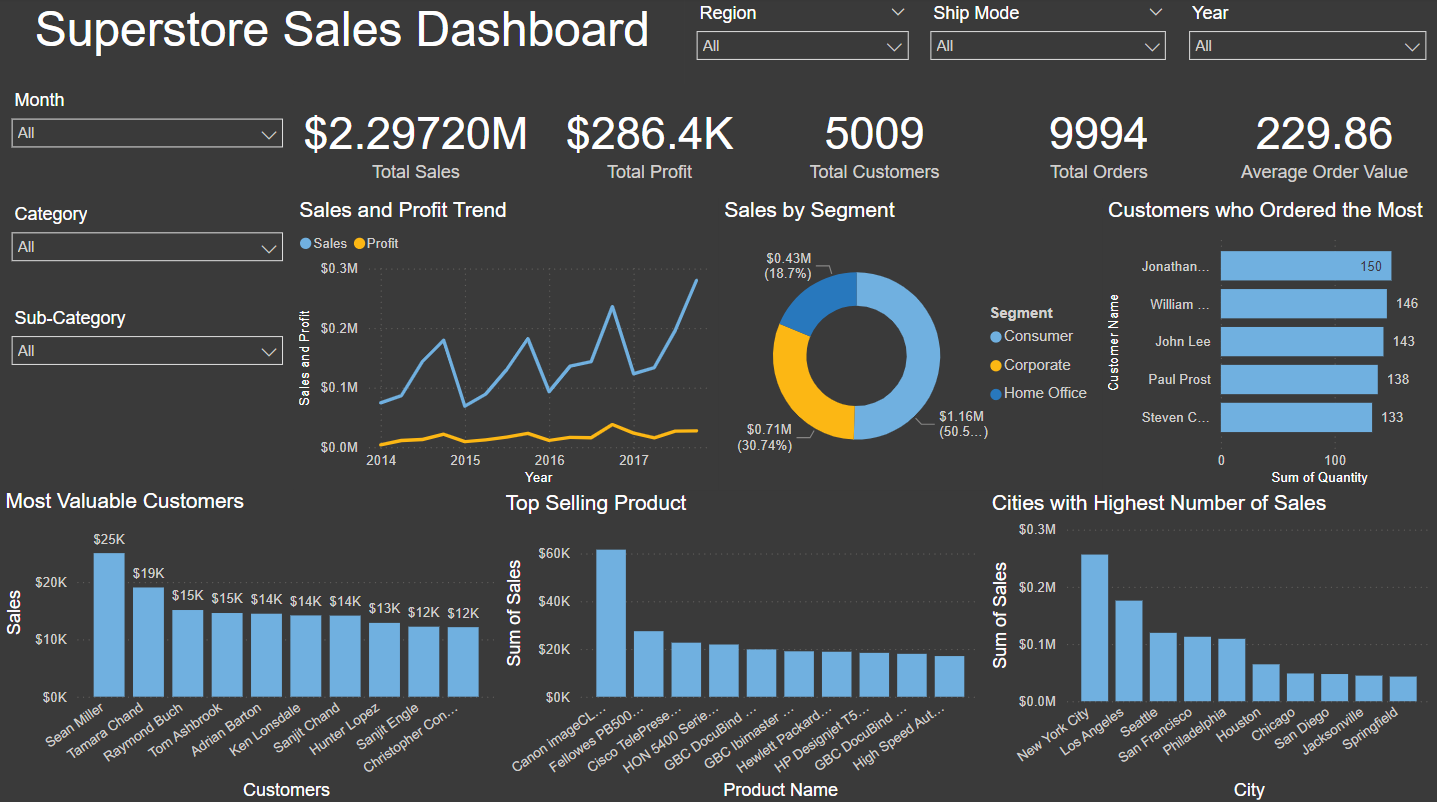

The page's visual inventory and layout, read from the dashboard file:
{"tool":"powerbi","page":{"name":"Dashboard","canvas":[1280,720],"ordinal":0},"visuals":[{"type":"card","fields":{"Values":["Sample - Superstore.Total Sales"]},"box":[262,77.9,217.9,101.6],"z":0},{"type":"textbox","box":[0,0,609.7,77.9],"z":1000},{"type":"card","fields":{"Values":["Sample - Superstore.Profit"]},"box":[478.8,77.9,199.9,101.6],"z":2000},{"type":"card","fields":{"Values":["Sample - Superstore.Order ID"]},"box":[878.5,77.9,201,101.6],"z":3000},{"type":"card","fields":{"Values":["Sample - Superstore.Average Order Value"]},"box":[1079.5,77.9,199.9,101.6],"z":4000},{"type":"card","fields":{"Values":["Sample - Superstore.Order ID"]},"box":[678.6,77.9,199.9,101.6],"z":5000},{"type":"lineChart","title":"Sales and Profit Trend","fields":{"Category":["Sample - Superstore.Order Date.Variation.Date Hierarchy.Year","Sample - Superstore.Order Date.Variation.Date Hierarchy.Quarter"],"Y":["Sample - Superstore.Sales","Sample - Superstore.Profit"]},"box":[261.6,179.1,377.9,260.5],"z":6000},{"type":"donutChart","fields":{"Y":["Sample - Superstore.Sales"],"Category":["Sample - Superstore.Segment"]},"box":[639.5,179.1,341.9,260.5],"z":7000},{"type":"columnChart","title":"Most Valuable Customers","fields":{"Category":["Sample - Superstore.Customer Name"],"Y":["Sample - Superstore.Sales"]},"box":[0,439.1,446,281.3],"z":8000},{"type":"slicer","fields":{"Values":["Sample - Superstore.Category"]},"box":[0,179.5,262,92.6],"z":9000},{"type":"slicer","fields":{"Values":["Sample - Superstore.Sub-Category"]},"box":[0,272.1,262,167.1],"z":10000},{"type":"slicer","fields":{"Values":["Sample - Superstore.Year"]},"box":[1049,0,231.5,77.9],"z":11000},{"type":"slicer","fields":{"Values":["Sample - Superstore.Ship Mode"]},"box":[818.6,0,230.3,77.9],"z":12000},{"type":"slicer","fields":{"Values":["Sample - Superstore.Region"]},"box":[609.7,0,208.9,77.9],"z":13000},{"type":"slicer","fields":{"Values":["Sample - Superstore.Month"]},"box":[0,77.9,262,101.6],"z":14000},{"type":"clusteredColumnChart","title":"Top Selling Product","fields":{"Category":["Sample - Superstore.Product Name"],"Y":["Sample - Superstore.Sales"]},"box":[445.4,439.5,432.6,280.2],"z":15000},{"type":"columnChart","title":"Cities with Highest Number of Sales","fields":{"Category":["Sample - Superstore.City"],"Y":["Sample - Superstore.Sales"]},"box":[877.9,439.5,401.2,280.2],"z":16000},{"type":"barChart","title":"Customers who Ordered the Most","fields":{"Category":["Sample - Superstore.Customer Name"],"Y":["Sample - Superstore.Quantity"]},"box":[981.4,179.1,297.7,260.5],"z":17000}]}

Visuals, with their boxes in screenshot pixels (x1, y1, x2, y2), scaled from the page's 1280x720 canvas onto the 1437x802 screenshot:
card - Sample - Superstore.Total Sales: bbox=[294, 87, 539, 200]
textbox: bbox=[0, 0, 684, 87]
card - Sample - Superstore.Profit: bbox=[538, 87, 762, 200]
card - Sample - Superstore.Order ID: bbox=[986, 87, 1212, 200]
card - Sample - Superstore.Average Order Value: bbox=[1212, 87, 1436, 200]
card - Sample - Superstore.Order ID: bbox=[762, 87, 986, 200]
"Sales and Profit Trend" lineChart: bbox=[294, 199, 718, 490]
donutChart - Sample - Superstore.Sales x Sample - Superstore.Segment: bbox=[718, 199, 1102, 490]
"Most Valuable Customers" columnChart: bbox=[0, 489, 501, 801]
slicer - Sample - Superstore.Category: bbox=[0, 200, 294, 303]
slicer - Sample - Superstore.Sub-Category: bbox=[0, 303, 294, 489]
slicer - Sample - Superstore.Year: bbox=[1178, 0, 1436, 87]
slicer - Sample - Superstore.Ship Mode: bbox=[919, 0, 1178, 87]
slicer - Sample - Superstore.Region: bbox=[684, 0, 919, 87]
slicer - Sample - Superstore.Month: bbox=[0, 87, 294, 200]
"Top Selling Product" clusteredColumnChart: bbox=[500, 490, 986, 801]
"Cities with Highest Number of Sales" columnChart: bbox=[986, 490, 1436, 801]
"Customers who Ordered the Most" barChart: bbox=[1102, 199, 1436, 490]
